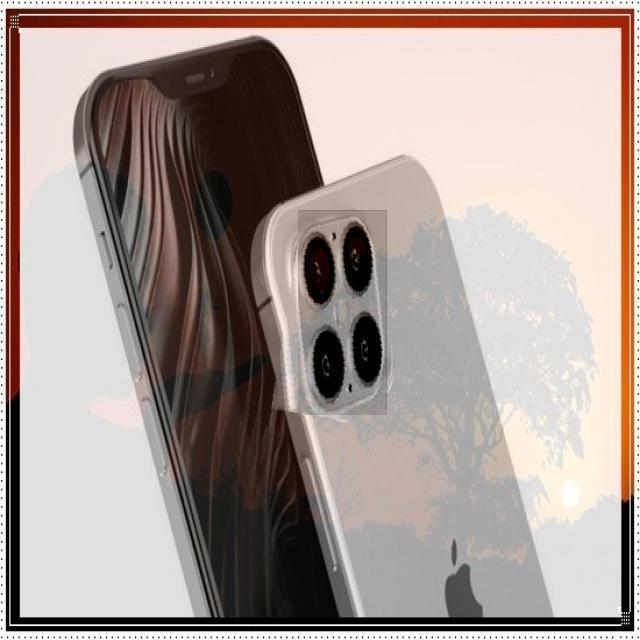lens_back: (307, 321, 354, 412), (295, 238, 345, 310), (354, 312, 387, 397), (347, 217, 377, 301)
